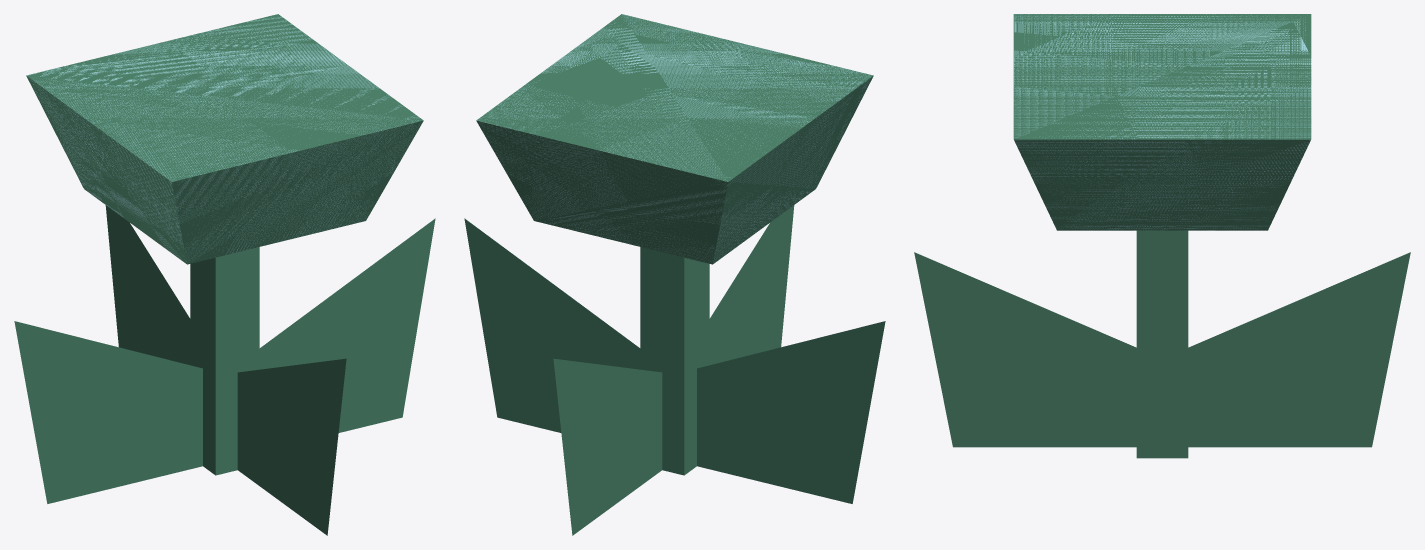
The model's file is naturePack_flat_009.fbx.
3 renders of one model, left to right at view 1: azimuth 30°, elevation 25°; view 2: azimuth 150°, elevation 25°; view 3: azimuth 270°, elevation 25°, orthographic. The views are drawn at different scales.
Parts seen in each view (by area): view 1: Mesh3_Flower_Yellow Model, Mesh4_Flower_Yellow Model, Mesh1_Flower_Yellow Model, Mesh2_Flower_Yellow Model, Mesh5_Flower_Yellow Model; view 2: Mesh3_Flower_Yellow Model, Mesh4_Flower_Yellow Model, Mesh1_Flower_Yellow Model, Mesh5_Flower_Yellow Model, Mesh2_Flower_Yellow Model; view 3: Mesh3_Flower_Yellow Model, Mesh2_Flower_Yellow Model, Mesh5_Flower_Yellow Model.
Boxes of the visible parts, x1,y1,x2,y2 form: Mesh3_Flower_Yellow Model: [26, 14, 423, 475]; Mesh4_Flower_Yellow Model: [14, 321, 202, 503]; Mesh1_Flower_Yellow Model: [259, 218, 435, 432]; Mesh2_Flower_Yellow Model: [237, 358, 346, 535]; Mesh5_Flower_Yellow Model: [105, 205, 190, 364]; Mesh3_Flower_Yellow Model: [476, 14, 873, 475]; Mesh4_Flower_Yellow Model: [697, 321, 885, 503]; Mesh1_Flower_Yellow Model: [464, 218, 640, 432]; Mesh5_Flower_Yellow Model: [553, 358, 662, 535]; Mesh2_Flower_Yellow Model: [709, 205, 794, 364]; Mesh3_Flower_Yellow Model: [1013, 14, 1311, 458]; Mesh2_Flower_Yellow Model: [914, 252, 1136, 447]; Mesh5_Flower_Yellow Model: [1188, 252, 1410, 447].
Bounding box in the file's own units: 0.4859 × 0.4 × 0.4859.
